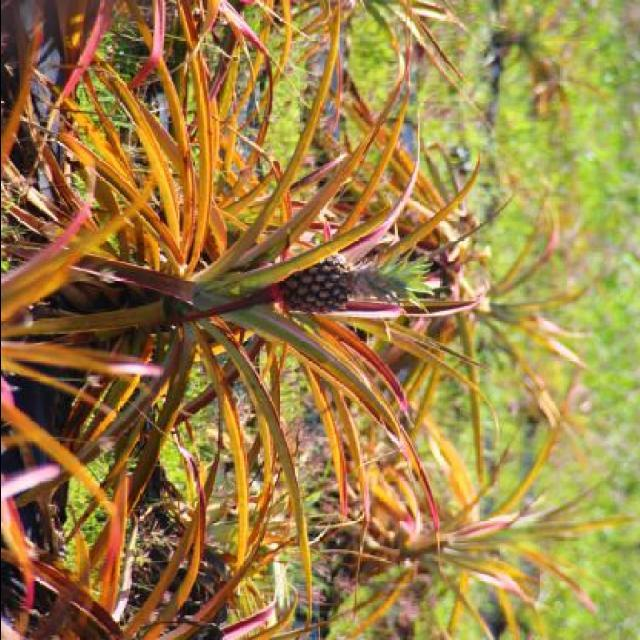Pineapple: (278, 248, 434, 318)
